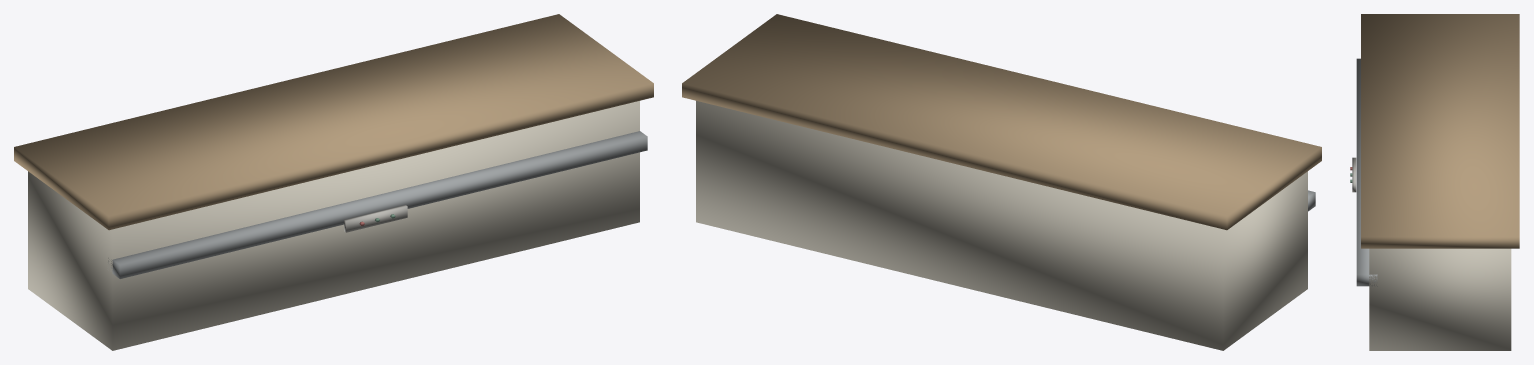
File: diner_counter__squat.glb
3 renders of one model, left to right at view 1: azimuth 30°, elevation 25°; view 2: azimuth 150°, elevation 25°; view 3: azimuth 270°, elevation 25°, orthographic. The views are drawn at different scales.
Visible parts, largest first — view 1: world; view 2: world; view 3: world.
Boxes of the visible parts, x1,y1,x2,y2 form: world: [14, 14, 653, 350]; world: [682, 14, 1321, 350]; world: [1350, 14, 1519, 350].
Bounding box in the file's own units: 2.73 × 0.672 × 0.8759.
